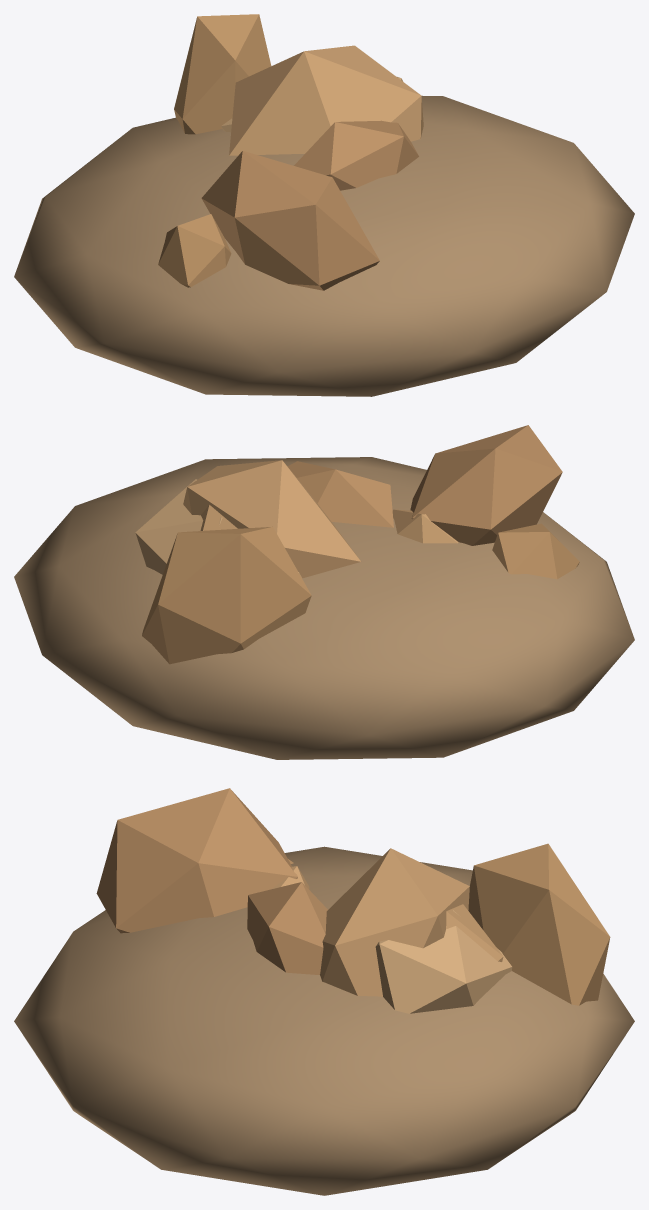
Rendered from rubble.glb.
3 renders of one model, top to bottom at view 1: azimuth 30°, elevation 25°; view 2: azimuth 150°, elevation 25°; view 3: azimuth 270°, elevation 25°, orthographic. The views are drawn at different scales.
Parts seen in each view (by area): view 1: rubble; view 2: rubble; view 3: rubble.
Part boxes in pixels (box(x1,y1,x2,y2)): rubble: box(14, 14, 634, 396); rubble: box(14, 425, 634, 759); rubble: box(14, 788, 634, 1195).
Bounding box in the file's own units: 0.8788 × 0.4138 × 0.84.
